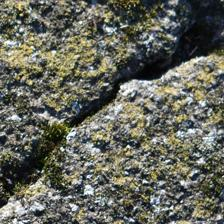Crack: (54, 65, 174, 144), (7, 89, 111, 131)
